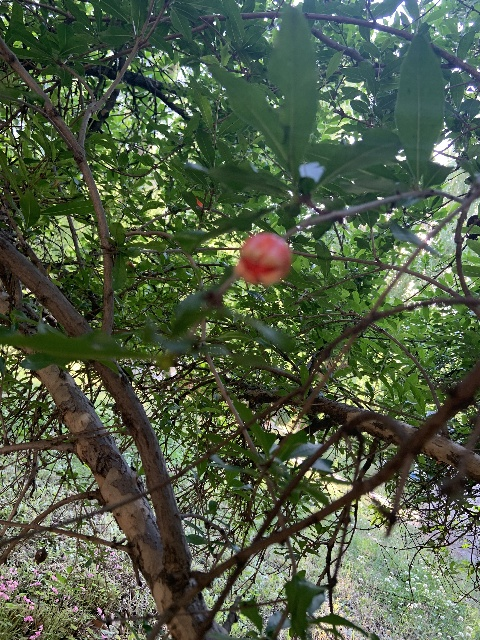flower: (234, 232, 291, 286)
